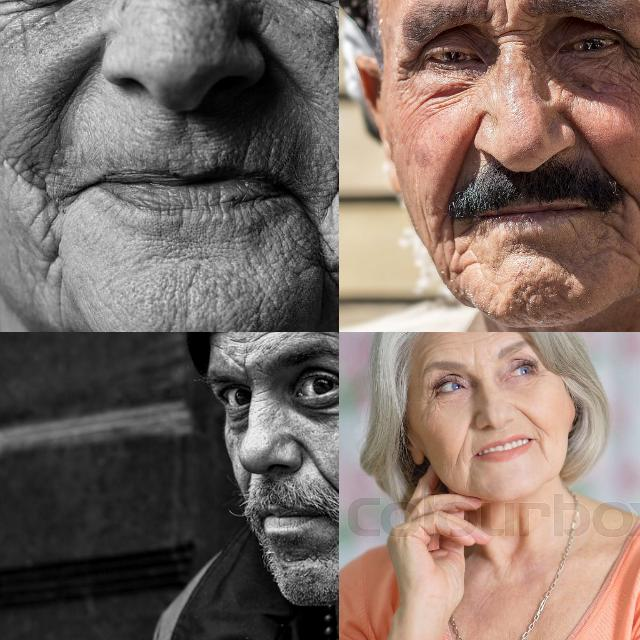bunny_line: (254, 386, 270, 412)
chin: (170, 264, 208, 314), (602, 216, 628, 244), (286, 550, 318, 566), (566, 218, 582, 238)
crows_feet: (396, 55, 424, 83), (621, 42, 640, 74), (422, 386, 440, 418)
forehead: (456, 332, 520, 343), (320, 332, 339, 344)
frown_line: (493, 24, 527, 48), (468, 344, 486, 370), (238, 353, 252, 381), (497, 0, 512, 20)
gummy_smile: (44, 50, 102, 144), (266, 43, 316, 97), (568, 118, 610, 158), (448, 138, 476, 186), (302, 440, 334, 482), (454, 416, 480, 460), (516, 404, 546, 432)
masseter: (0, 143, 36, 188), (406, 95, 456, 115), (608, 80, 640, 105)
sad_smile: (301, 194, 337, 258), (46, 182, 72, 240), (439, 226, 469, 272), (456, 452, 484, 492), (532, 432, 554, 464), (627, 192, 640, 231)
smoker_lines: (234, 128, 284, 166)
